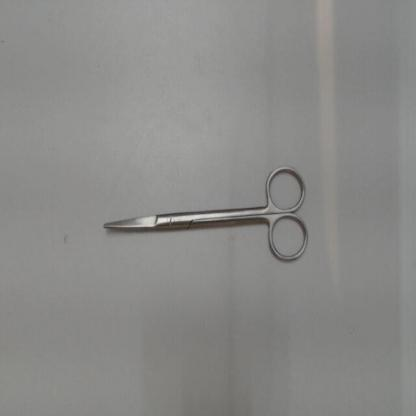Curved Mayo Scissors: (100, 158, 314, 268)
